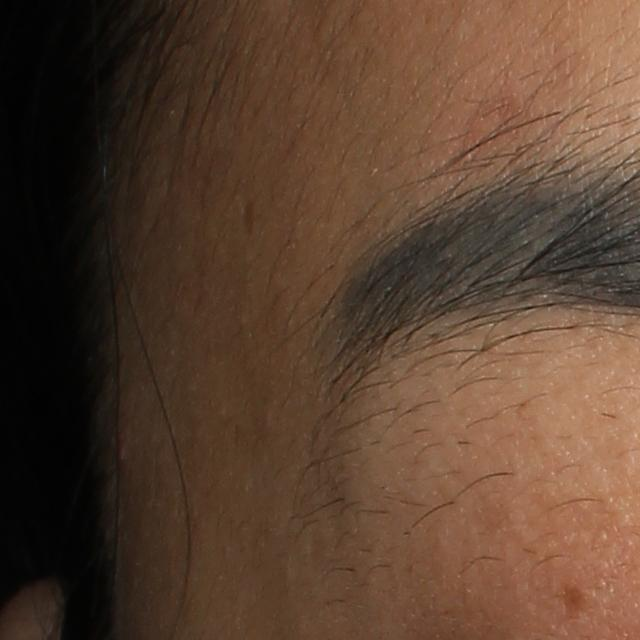melasma: (561, 584, 583, 622)
